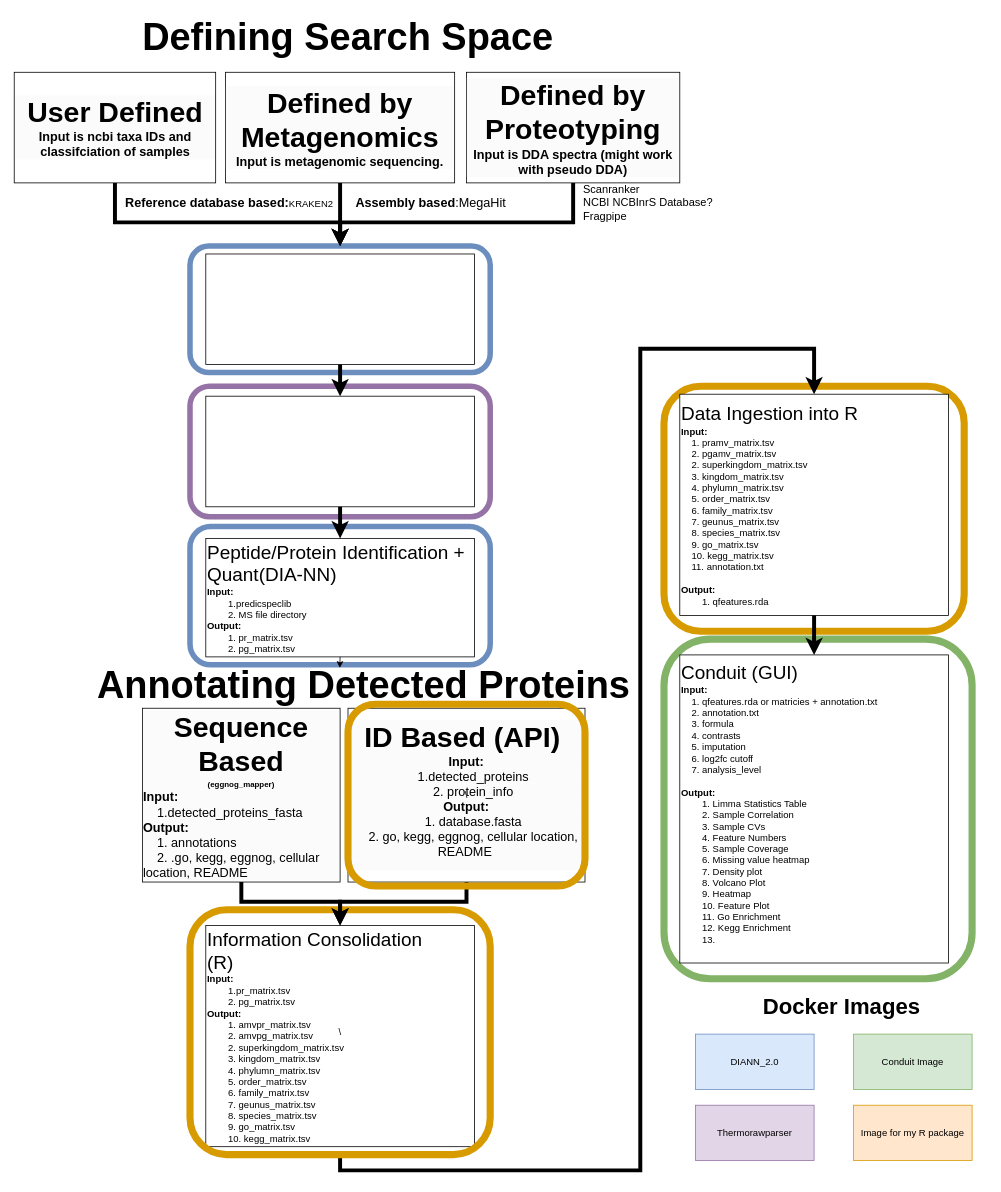
Some shapes in this 1001 by 1192 pixel diagram are drawn without their labels. Each missing label, with the centre of its shape:
MZML File Conversion Input: 1.raw file directory Output: 1.mzmL file directory: the point at 339,451
Spectral Library Generation (DIA-NN) Input: 1.db.fasta Output: 1. predicspeclib: the point at 339,309
